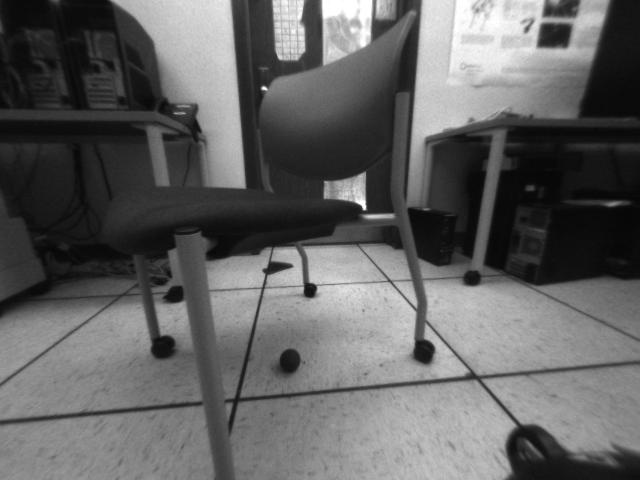dogtoy: (274, 338, 309, 382)
